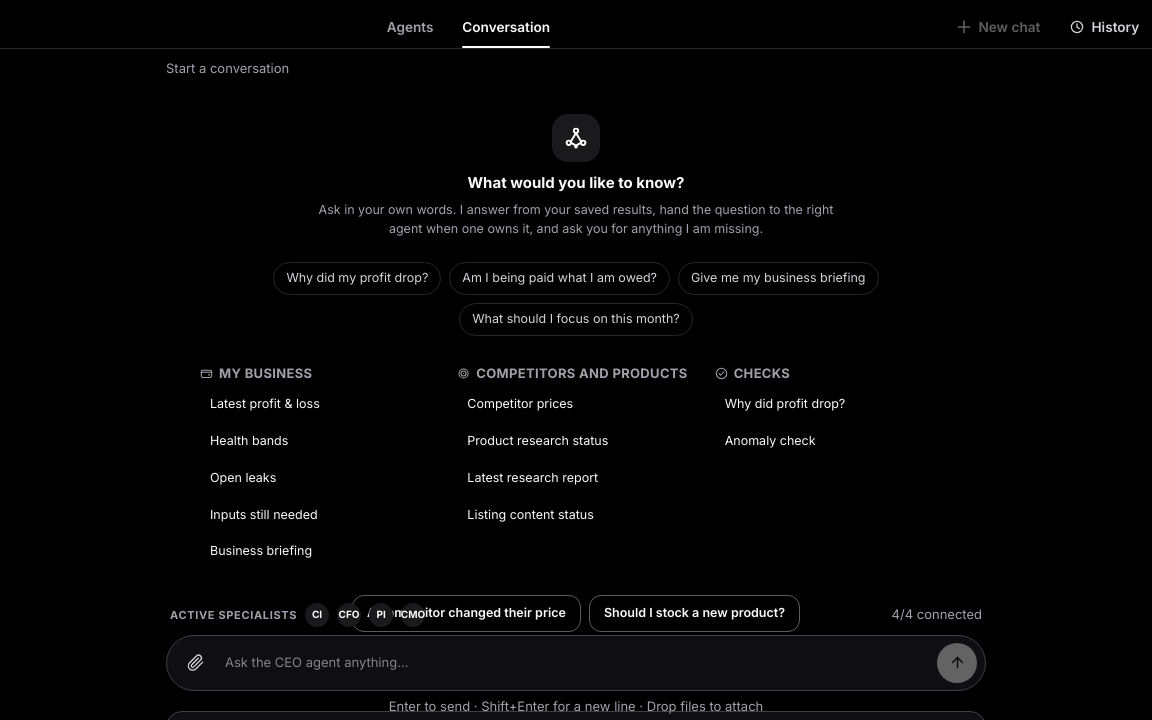
the open conversation survives a refresh › works exactly as before when browser storage is unavailable
Expected: the element with test id "welcome" is shown, [196,90,956,699]
Click the button with test id "open-drawer": (1104, 27) [1056,8,1151,46]
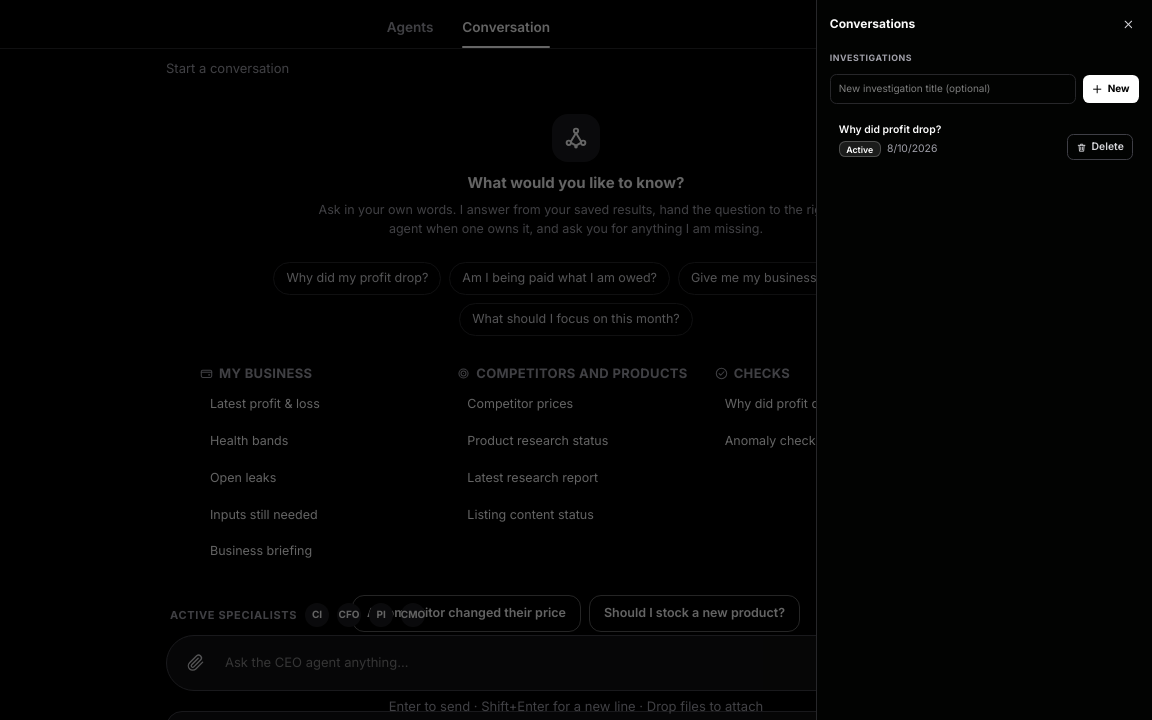
Click the button "Why did profit drop? Active 8/10/2026": (890, 130) [830,113,1139,166]
(page scrolled)
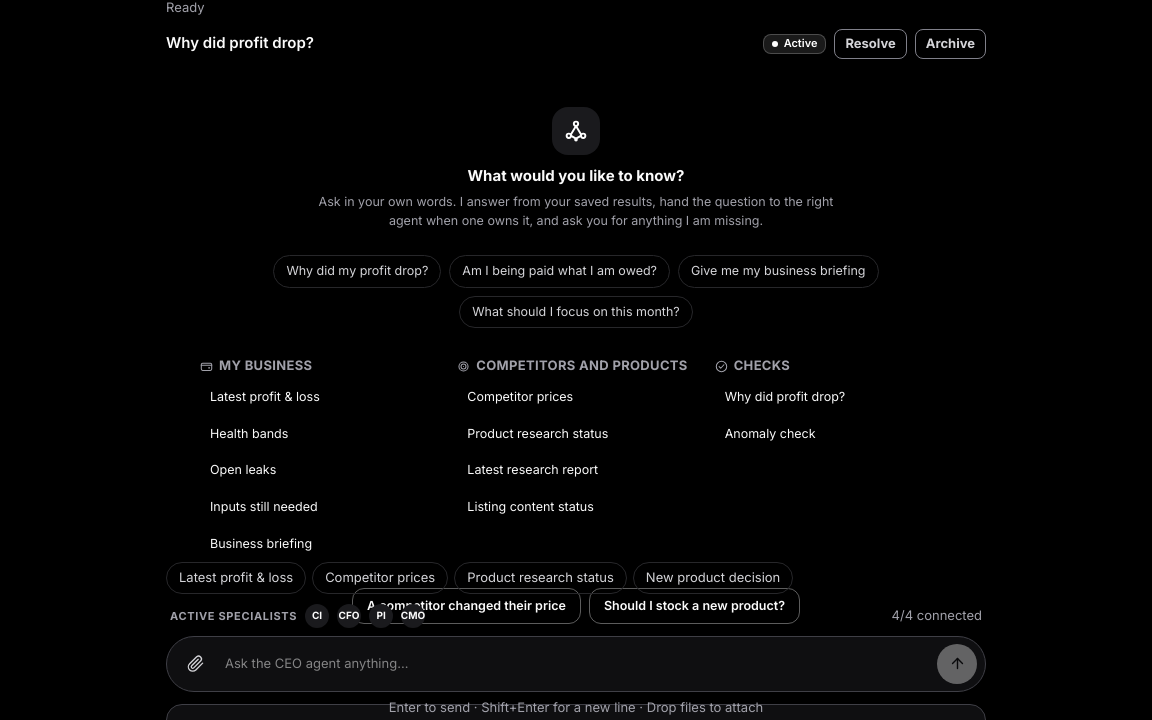
Now the element with test id "conversation" is shown
